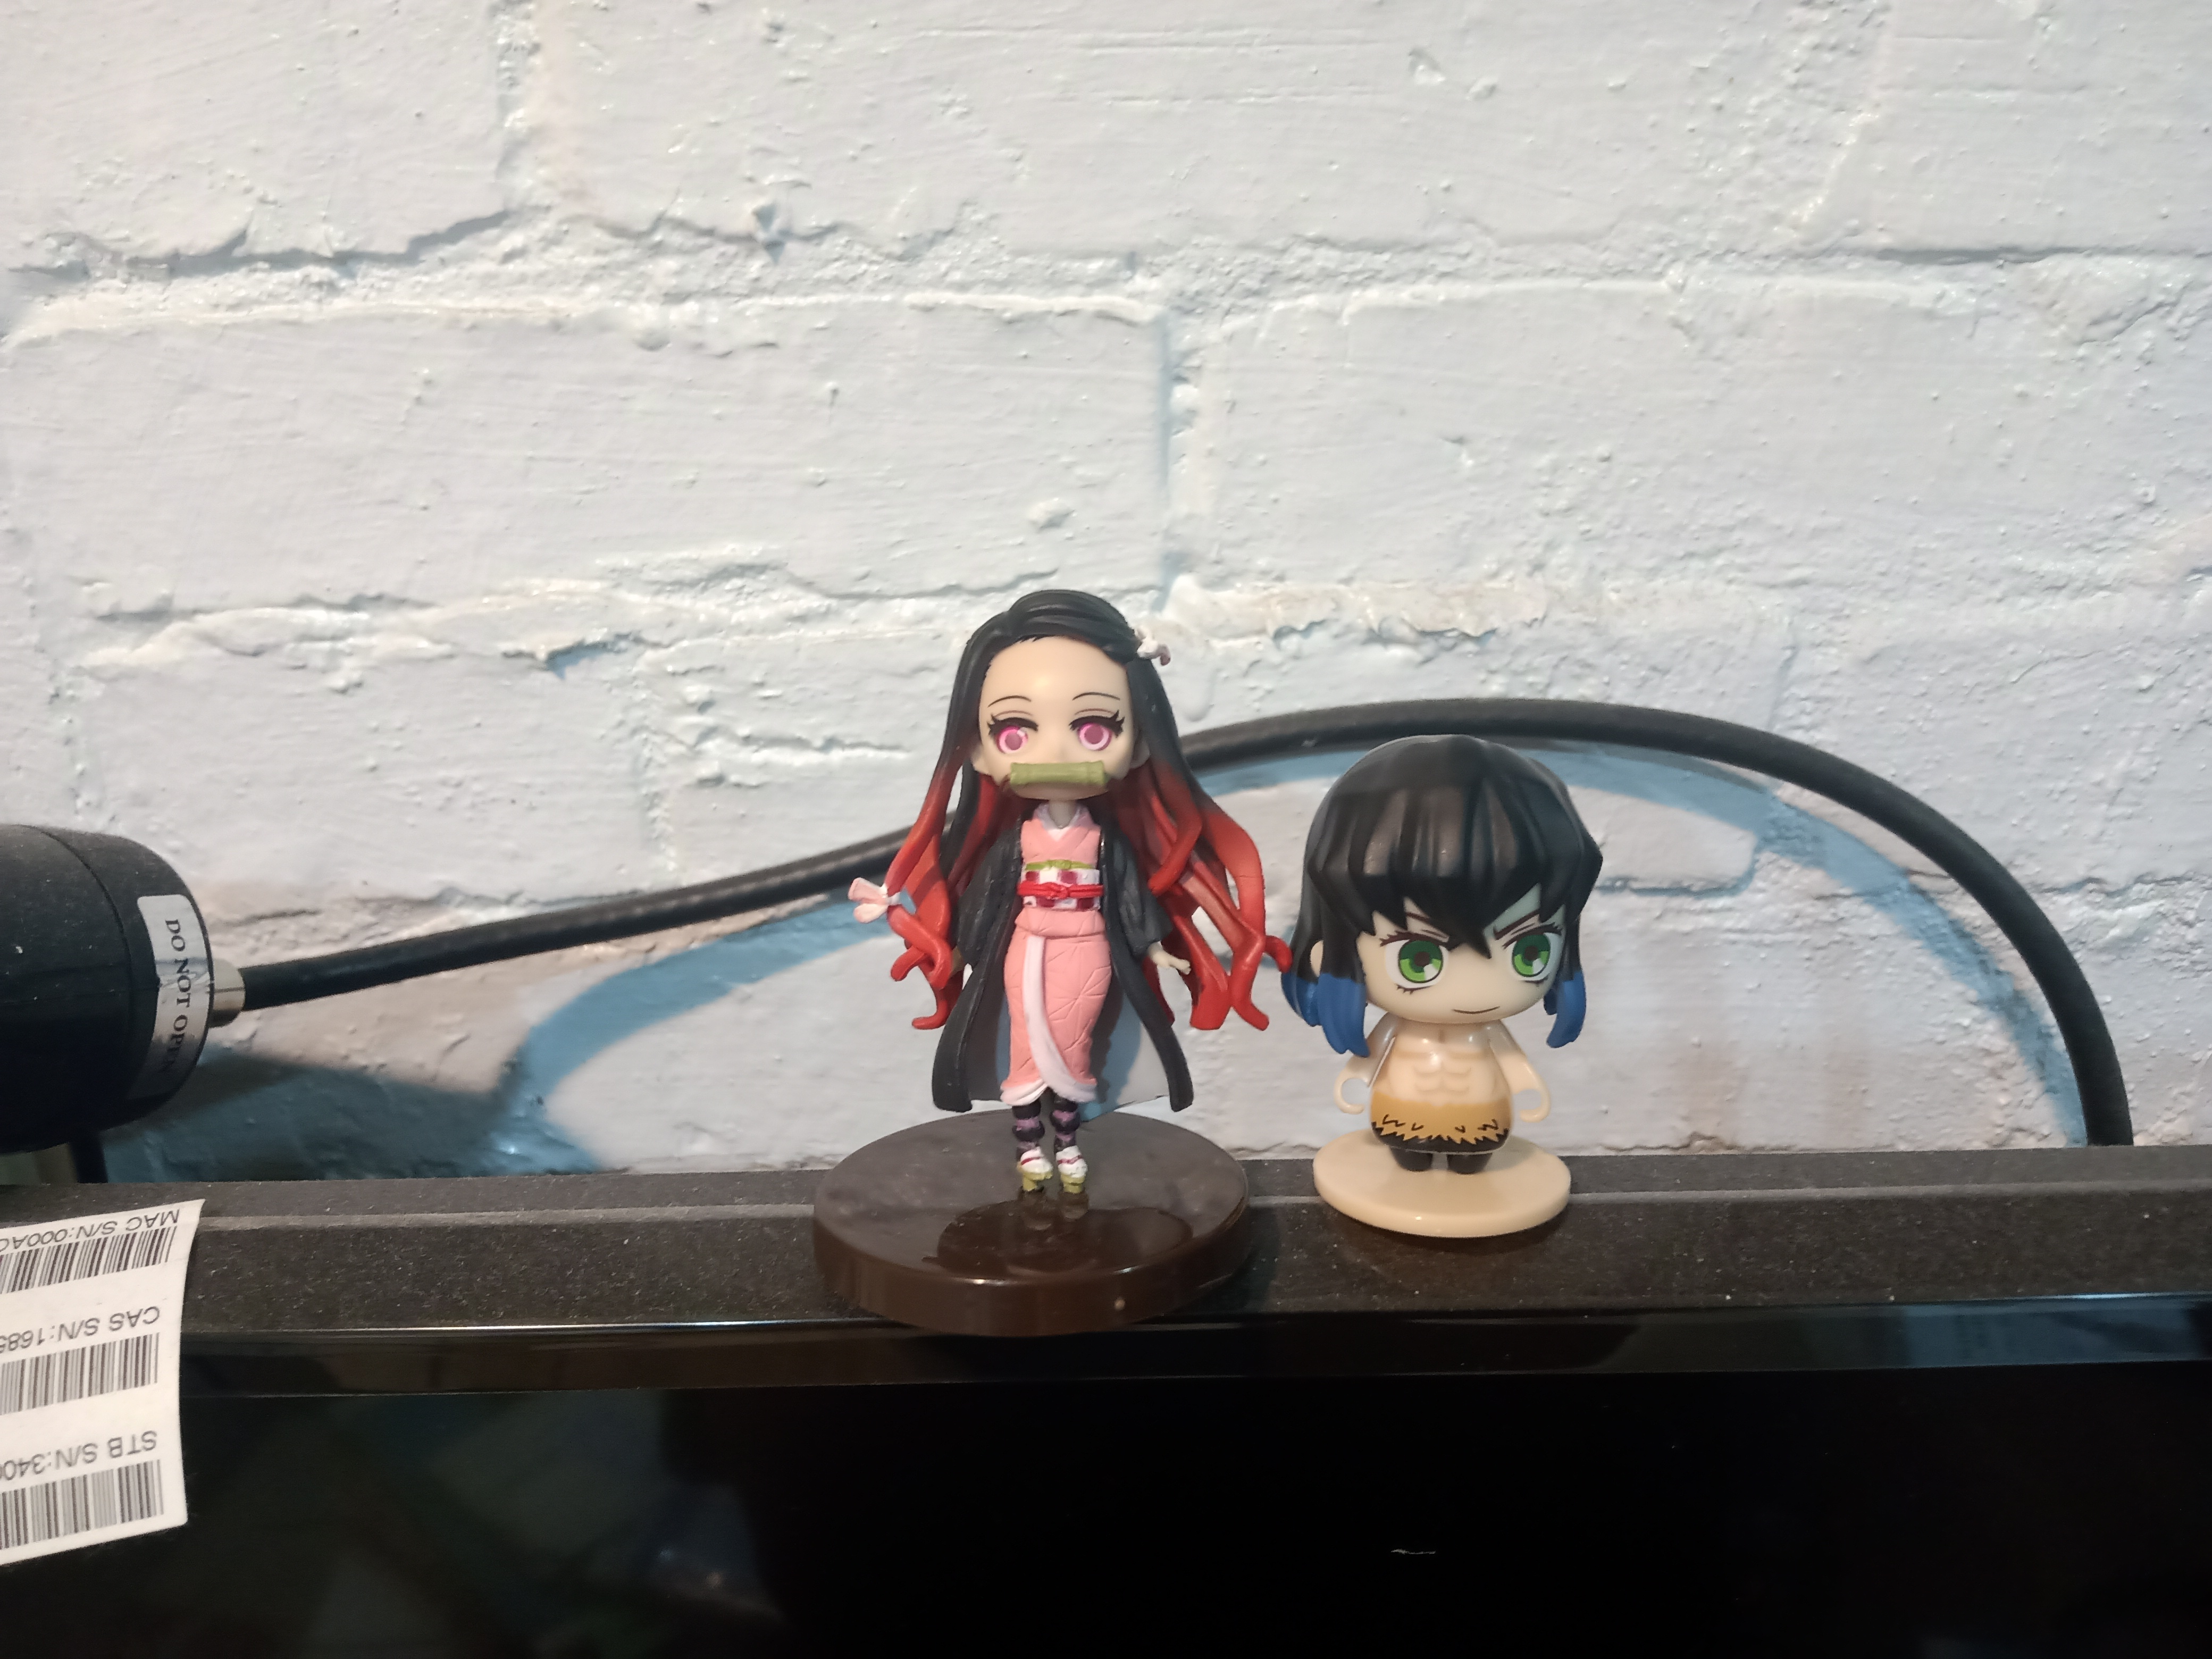Inosuke: (1259, 725, 1623, 1270)
Nezuko: (792, 579, 1299, 1333)
